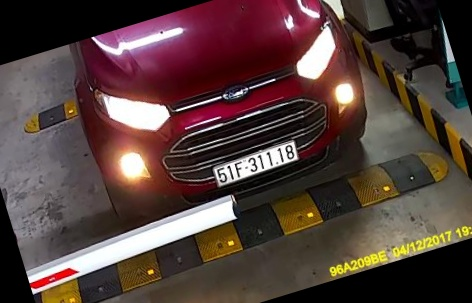plate: (208, 137, 303, 194)
